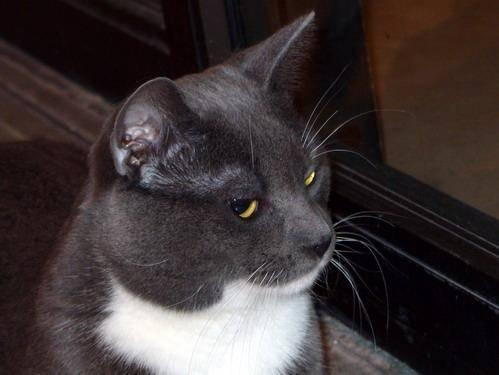cat: (38, 0, 399, 375)
